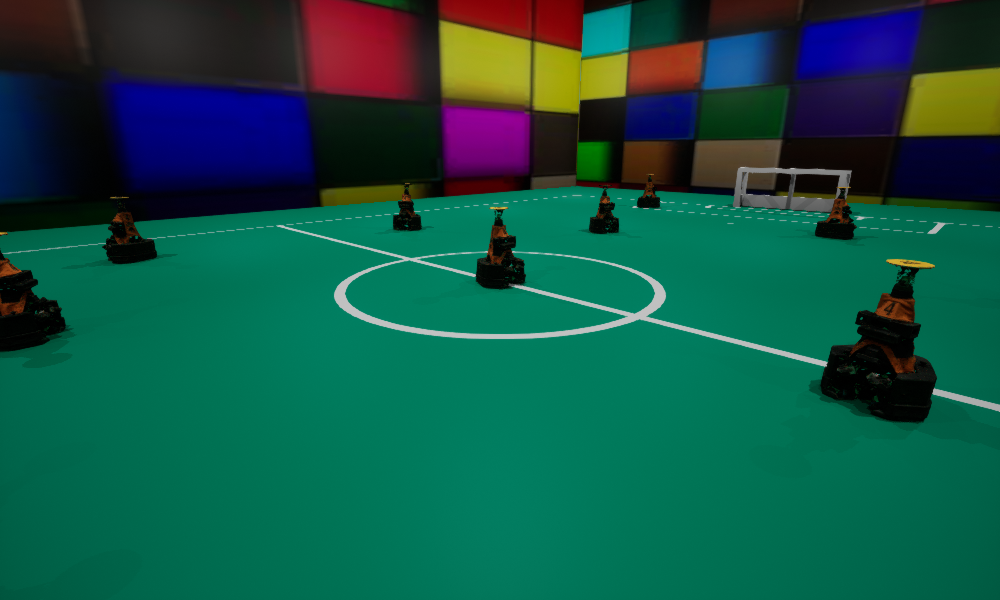0 orange robot TechUnited: (820, 259, 936, 420), (0, 232, 65, 351), (476, 207, 525, 288), (102, 197, 156, 262), (815, 187, 856, 239), (589, 185, 618, 233), (393, 183, 421, 229), (637, 174, 659, 207)
